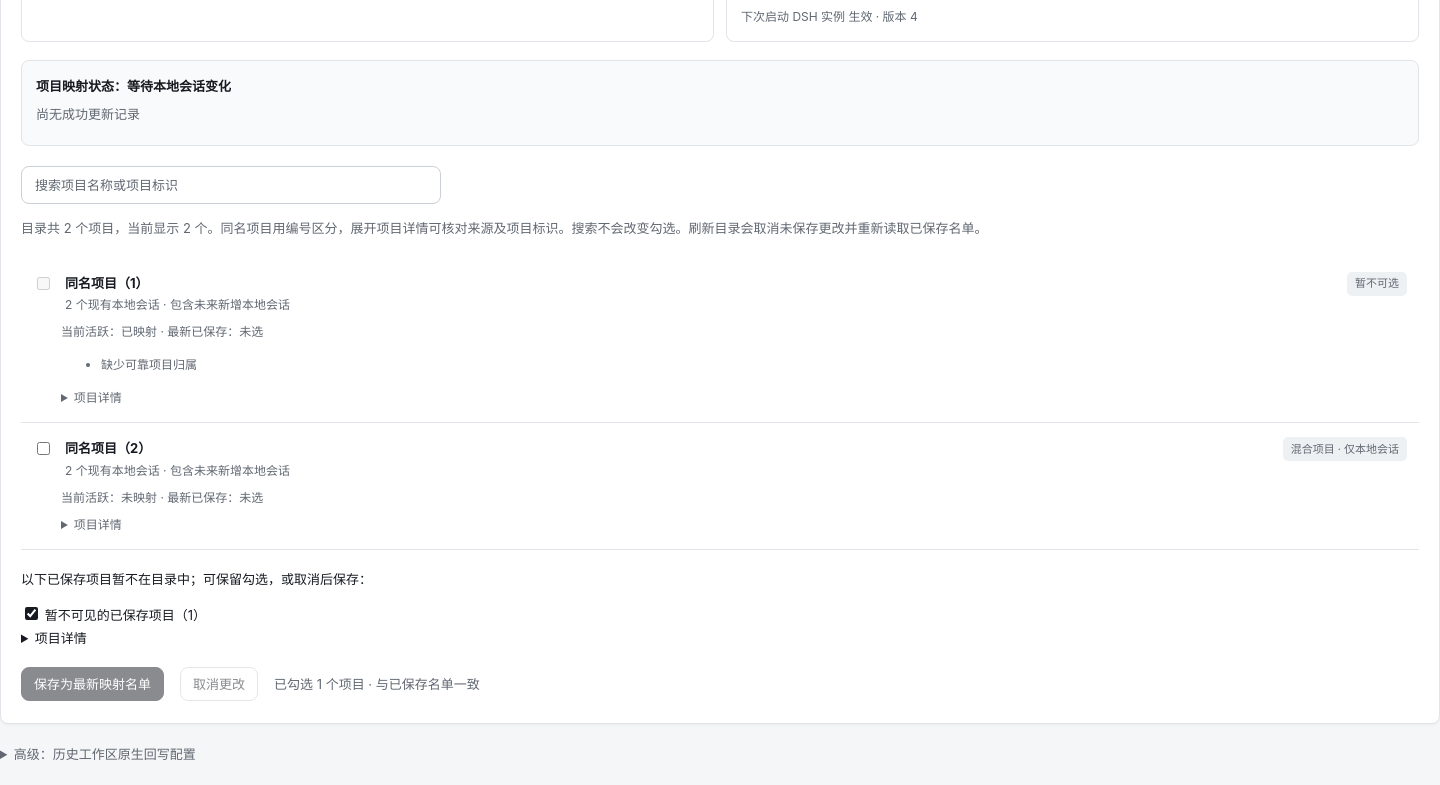
Test: Codex project mapping › shows ineligible entries and permits removing unavailable saved projects
The image size is (1440, 785).
(page scrolled)
Click the checkbox labelled "暂不可见的已保存项目（1）": (32, 613) [25,607,38,620]
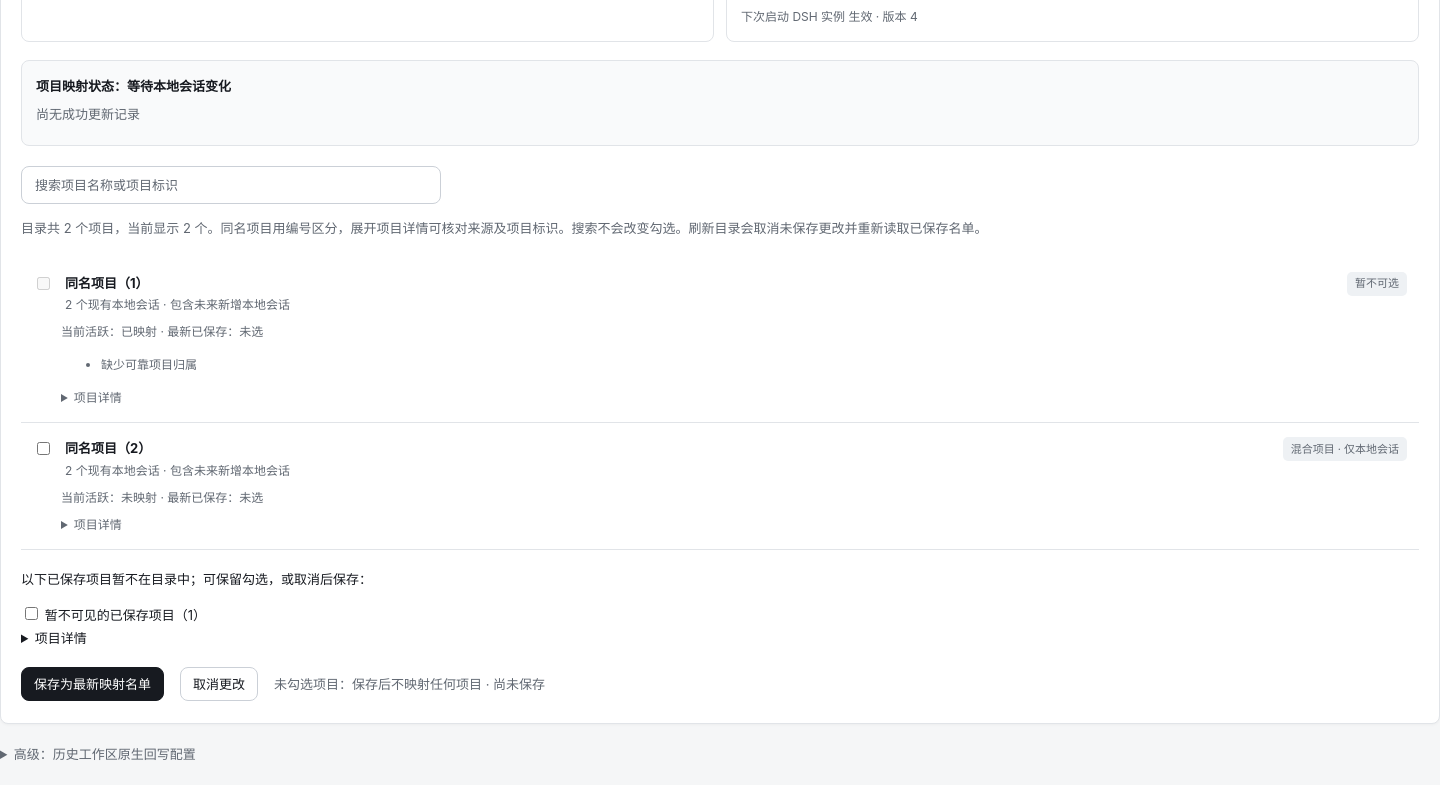
Expected: the checkbox labelled "暂不可见的已保存项目（1）" is not checked, [25,607,38,620]
Expected: the button "保存为最新映射名单" is enabled, [21,667,164,701]
